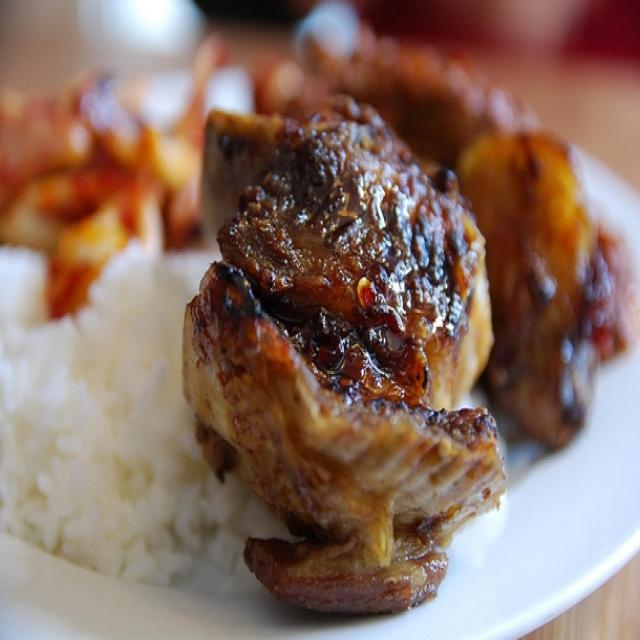米饭主食: (27, 16, 614, 618)
